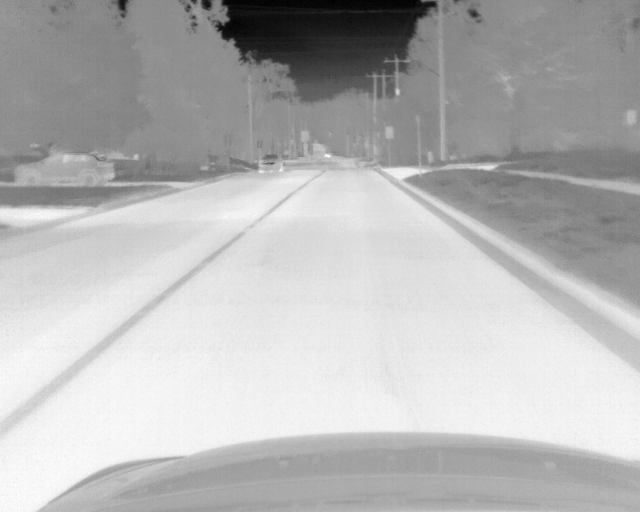car: (15, 151, 116, 187), (257, 153, 284, 173)
